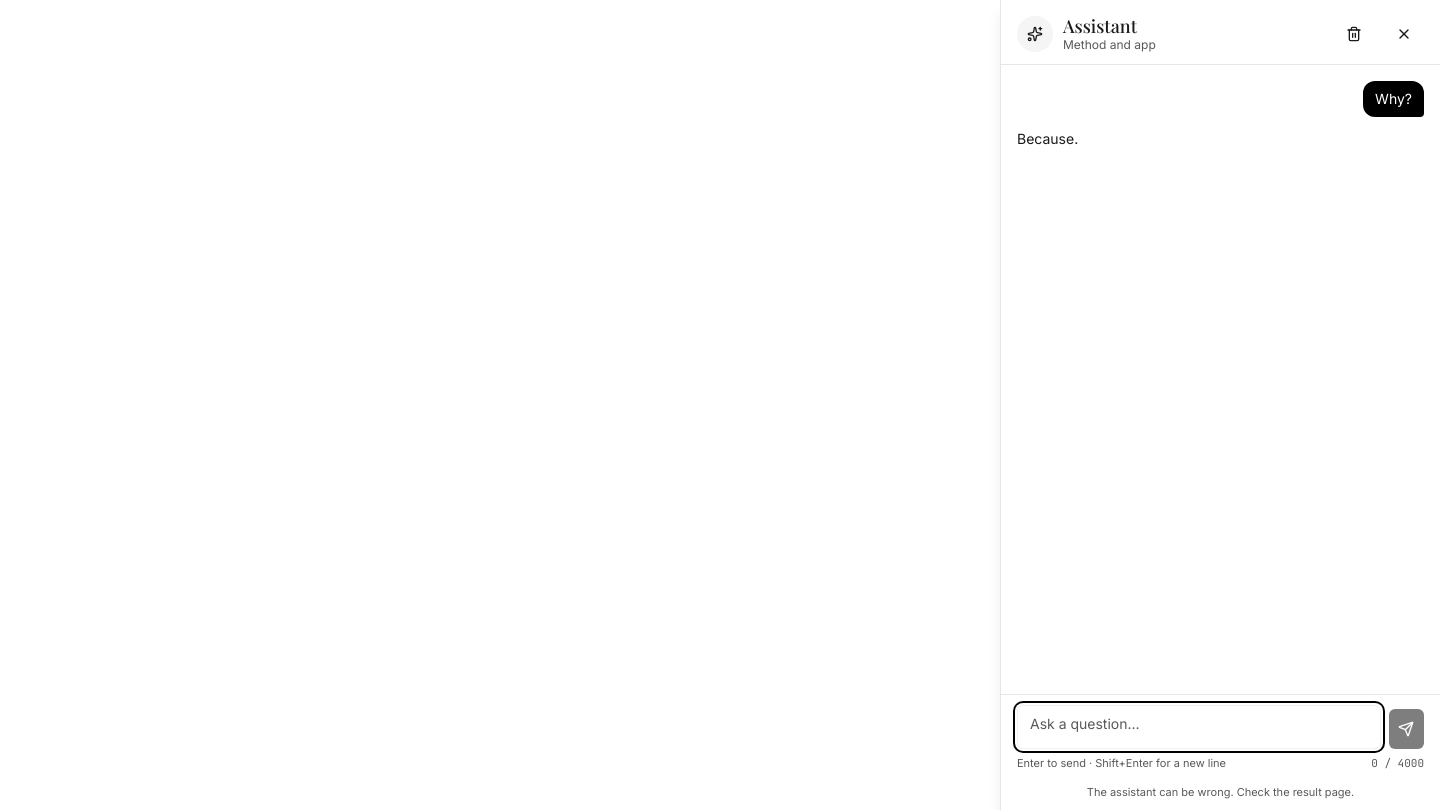
AssistantPanel › clearing › clears on confirmation and moves focus to the box
Click the button named "Clear conversation". click: point(1354, 34)
box: [1334,14,1374,54]
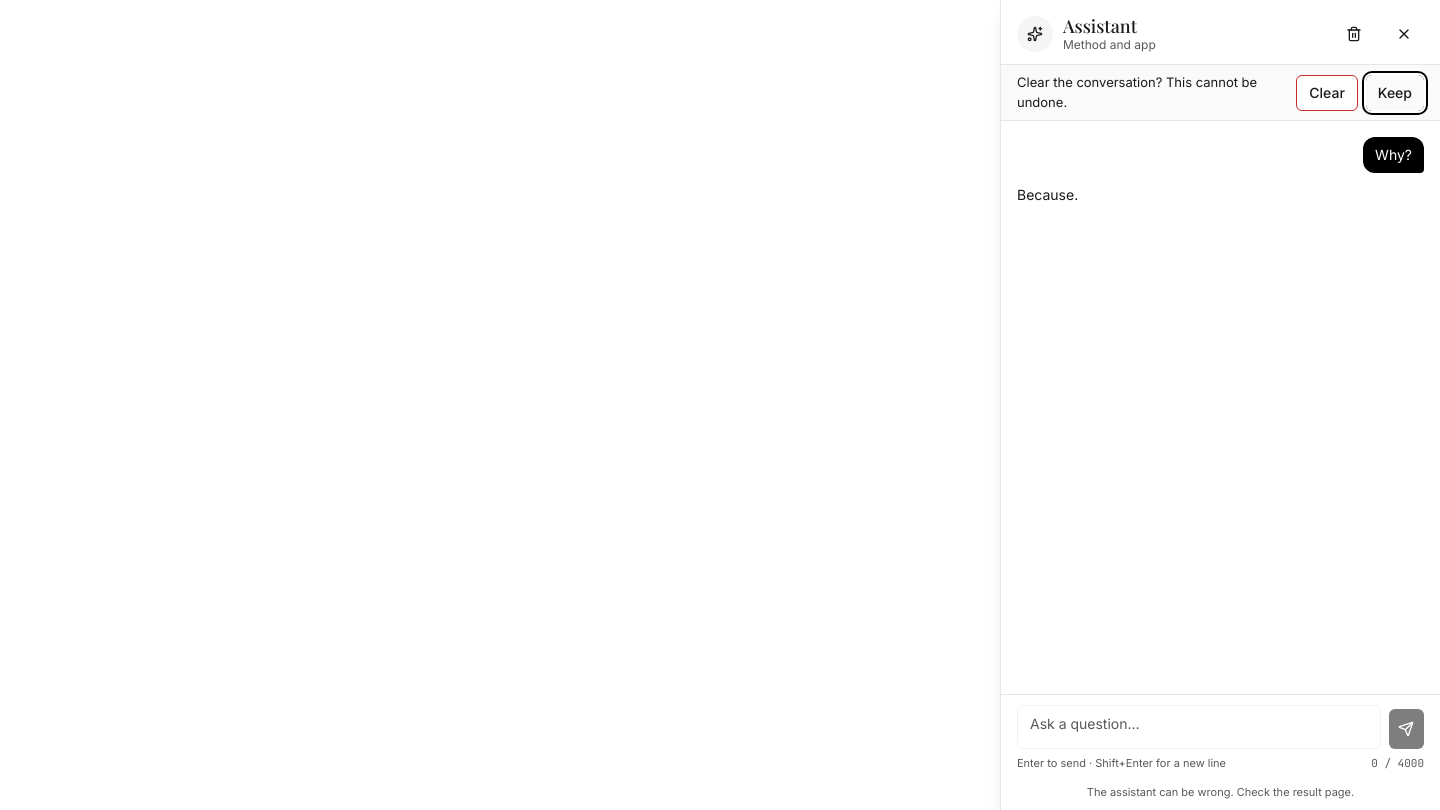
Click the button "Clear". click: point(1327, 92)
box: [1296,74,1358,110]
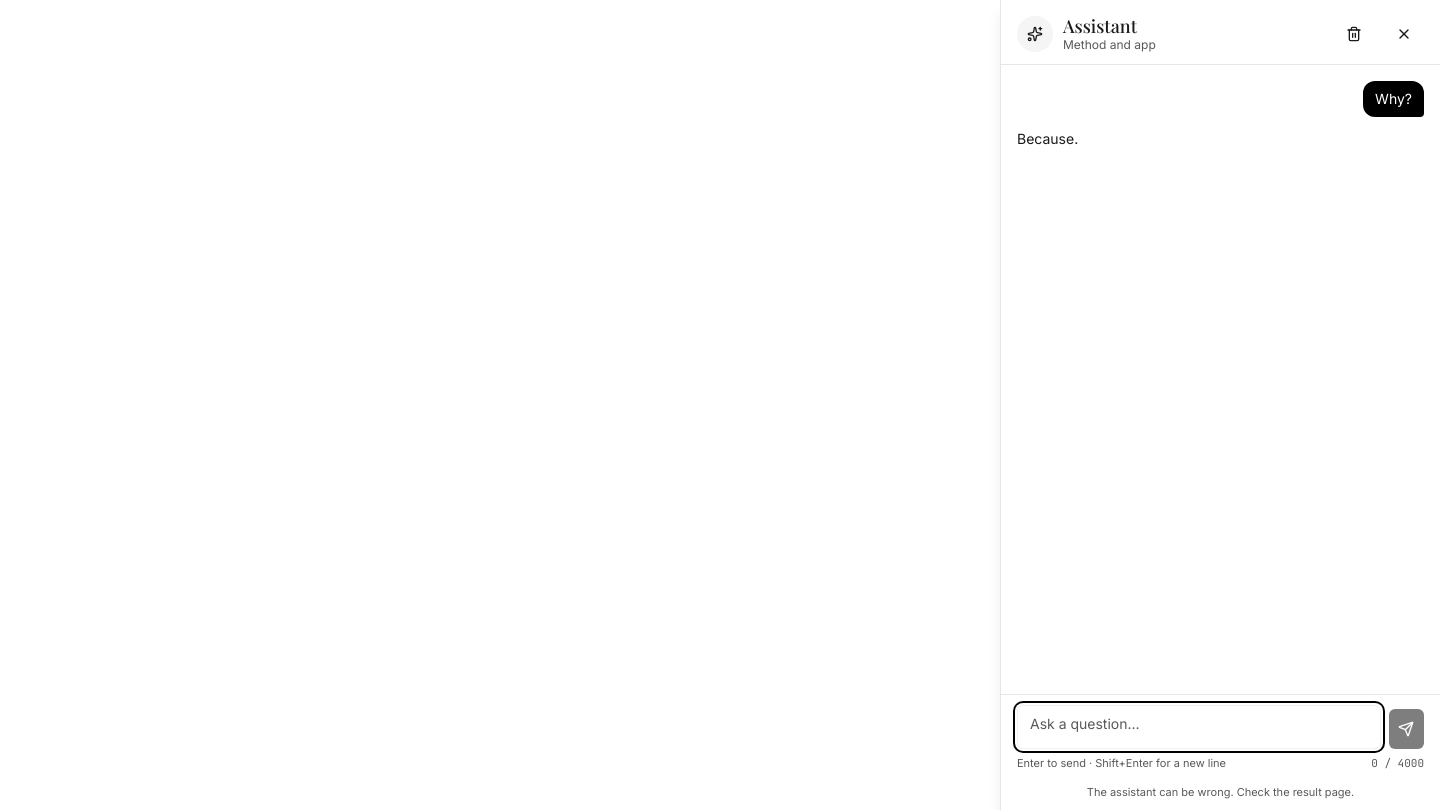
Now the button "Keep" is gone
